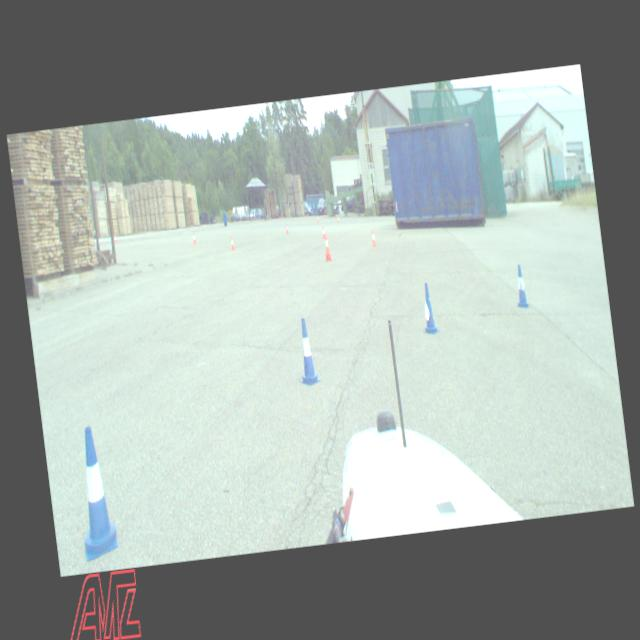blue_cone: (71, 424, 119, 560), (292, 316, 320, 386), (418, 282, 439, 334), (512, 264, 528, 308)
orange_cone: (323, 239, 331, 260), (371, 230, 376, 247), (230, 236, 234, 250), (285, 222, 289, 235), (192, 232, 196, 244), (322, 226, 326, 238), (316, 214, 320, 222), (337, 214, 340, 223), (114, 233, 116, 243)
